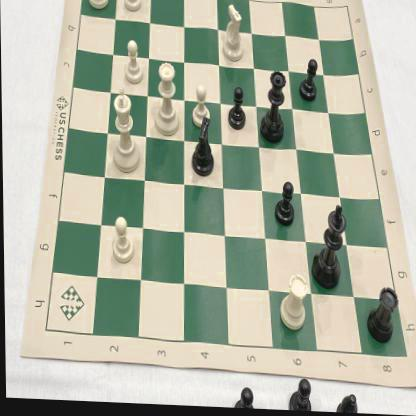black-king: (308, 202, 348, 296)
black-knight: (184, 118, 218, 180)
black-pawn: (295, 52, 320, 106), (272, 182, 295, 233), (225, 86, 248, 136)
black-queen: (256, 68, 288, 152)
black-rook: (362, 282, 398, 350)
white-king: (107, 88, 142, 180)
white-knight: (218, 2, 247, 67)
white-pawn: (187, 81, 213, 135), (108, 217, 135, 268), (120, 38, 144, 90), (120, 0, 144, 18)
white-queen: (153, 60, 179, 140)
white-rook: (276, 270, 310, 336), (85, 0, 113, 15)
